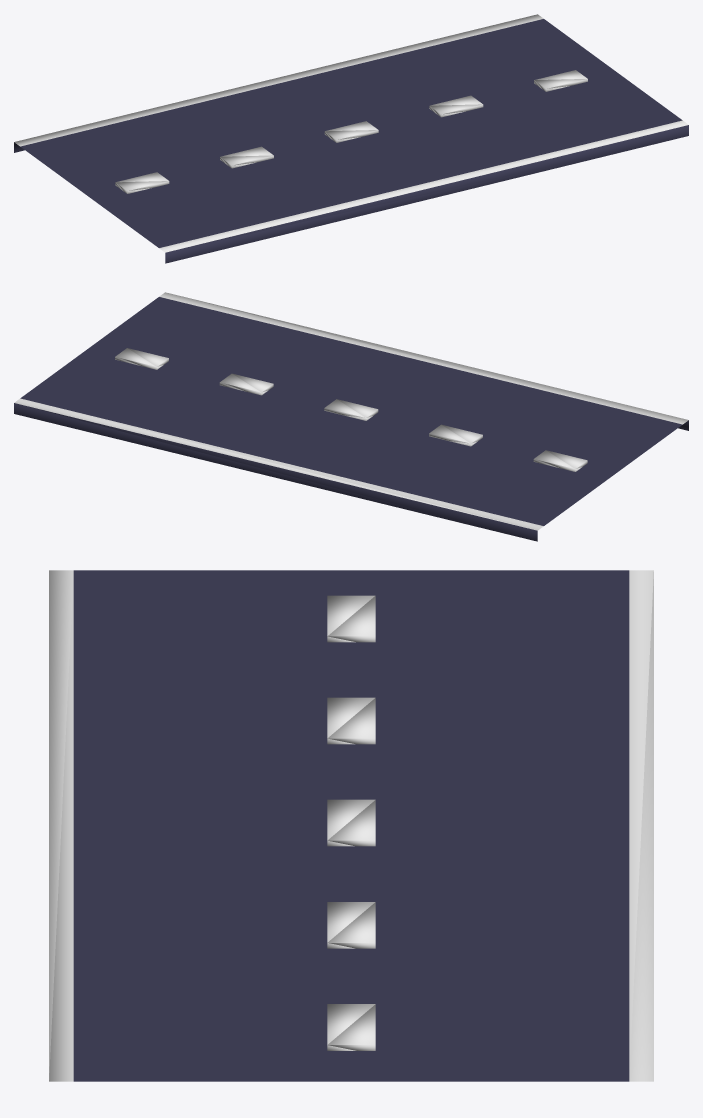
Rendered from route2.dae.
3 renders of one model, top to bottom at view 1: azimuth 30°, elevation 25°; view 2: azimuth 150°, elevation 25°; view 3: azimuth 270°, elevation 25°, orthographic. The views are drawn at different scales.
Visible parts, largest first — view 1: Box002, Box007; view 2: Box002, Box007; view 3: Box002, Box007.
Part boxes in pixels (x1,y1,x2,y2): Box002: [14, 14, 688, 263]; Box007: [115, 70, 587, 193]; Box002: [14, 292, 688, 541]; Box007: [115, 348, 587, 471]; Box002: [49, 570, 653, 1081]; Box007: [327, 595, 375, 1050].
Bounding box in the file's own units: 2.54 × 1.27 × 0.0643.
